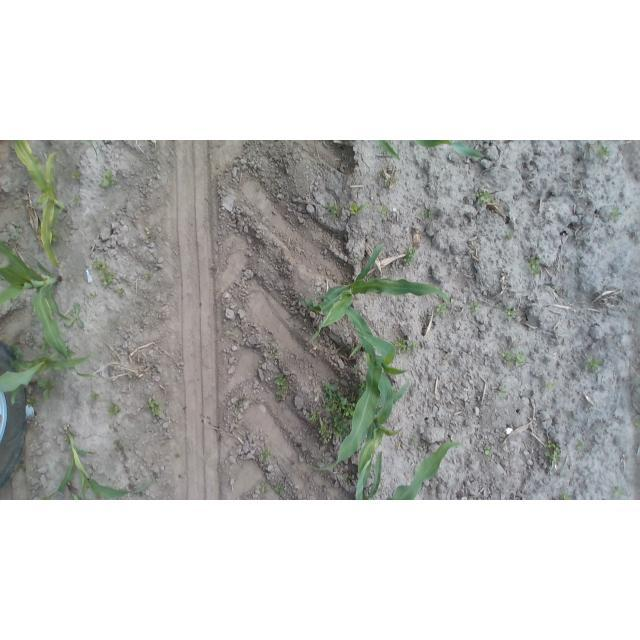Maize: (312, 304, 409, 470), (307, 241, 450, 345), (0, 242, 98, 378), (11, 140, 73, 270), (43, 429, 154, 499), (354, 379, 410, 497), (1, 349, 92, 406), (386, 442, 460, 500), (412, 140, 491, 158), (354, 453, 372, 499), (380, 140, 401, 160), (67, 484, 88, 501), (87, 141, 100, 160)
Weeds: (324, 380, 355, 436), (545, 439, 561, 469), (503, 349, 526, 369), (67, 303, 86, 327), (37, 378, 55, 398), (525, 257, 540, 278), (476, 190, 493, 208), (318, 425, 334, 444), (273, 374, 289, 391), (103, 169, 116, 188), (404, 245, 416, 265), (350, 201, 369, 213), (585, 356, 599, 372), (100, 268, 114, 284), (326, 203, 341, 217), (379, 202, 391, 218), (149, 401, 161, 417), (614, 486, 628, 499), (609, 206, 621, 221), (394, 338, 406, 353), (507, 305, 516, 321), (235, 396, 247, 408), (598, 145, 608, 159), (436, 302, 447, 314), (26, 396, 38, 407), (425, 206, 435, 219), (109, 404, 119, 417), (359, 380, 368, 394), (546, 379, 557, 390), (92, 258, 104, 268), (270, 348, 279, 360), (41, 338, 50, 350), (52, 228, 60, 241), (470, 300, 480, 310), (73, 169, 83, 179), (309, 413, 318, 423), (264, 449, 273, 459), (590, 142, 599, 151), (560, 494, 573, 500), (485, 446, 492, 457), (276, 394, 284, 403), (497, 389, 507, 396), (504, 230, 512, 238), (577, 442, 584, 451), (86, 294, 98, 299), (144, 273, 152, 280), (72, 196, 80, 203), (413, 340, 419, 349), (412, 438, 419, 445), (92, 393, 99, 400), (118, 288, 124, 296), (275, 486, 282, 491), (635, 421, 640, 427)
